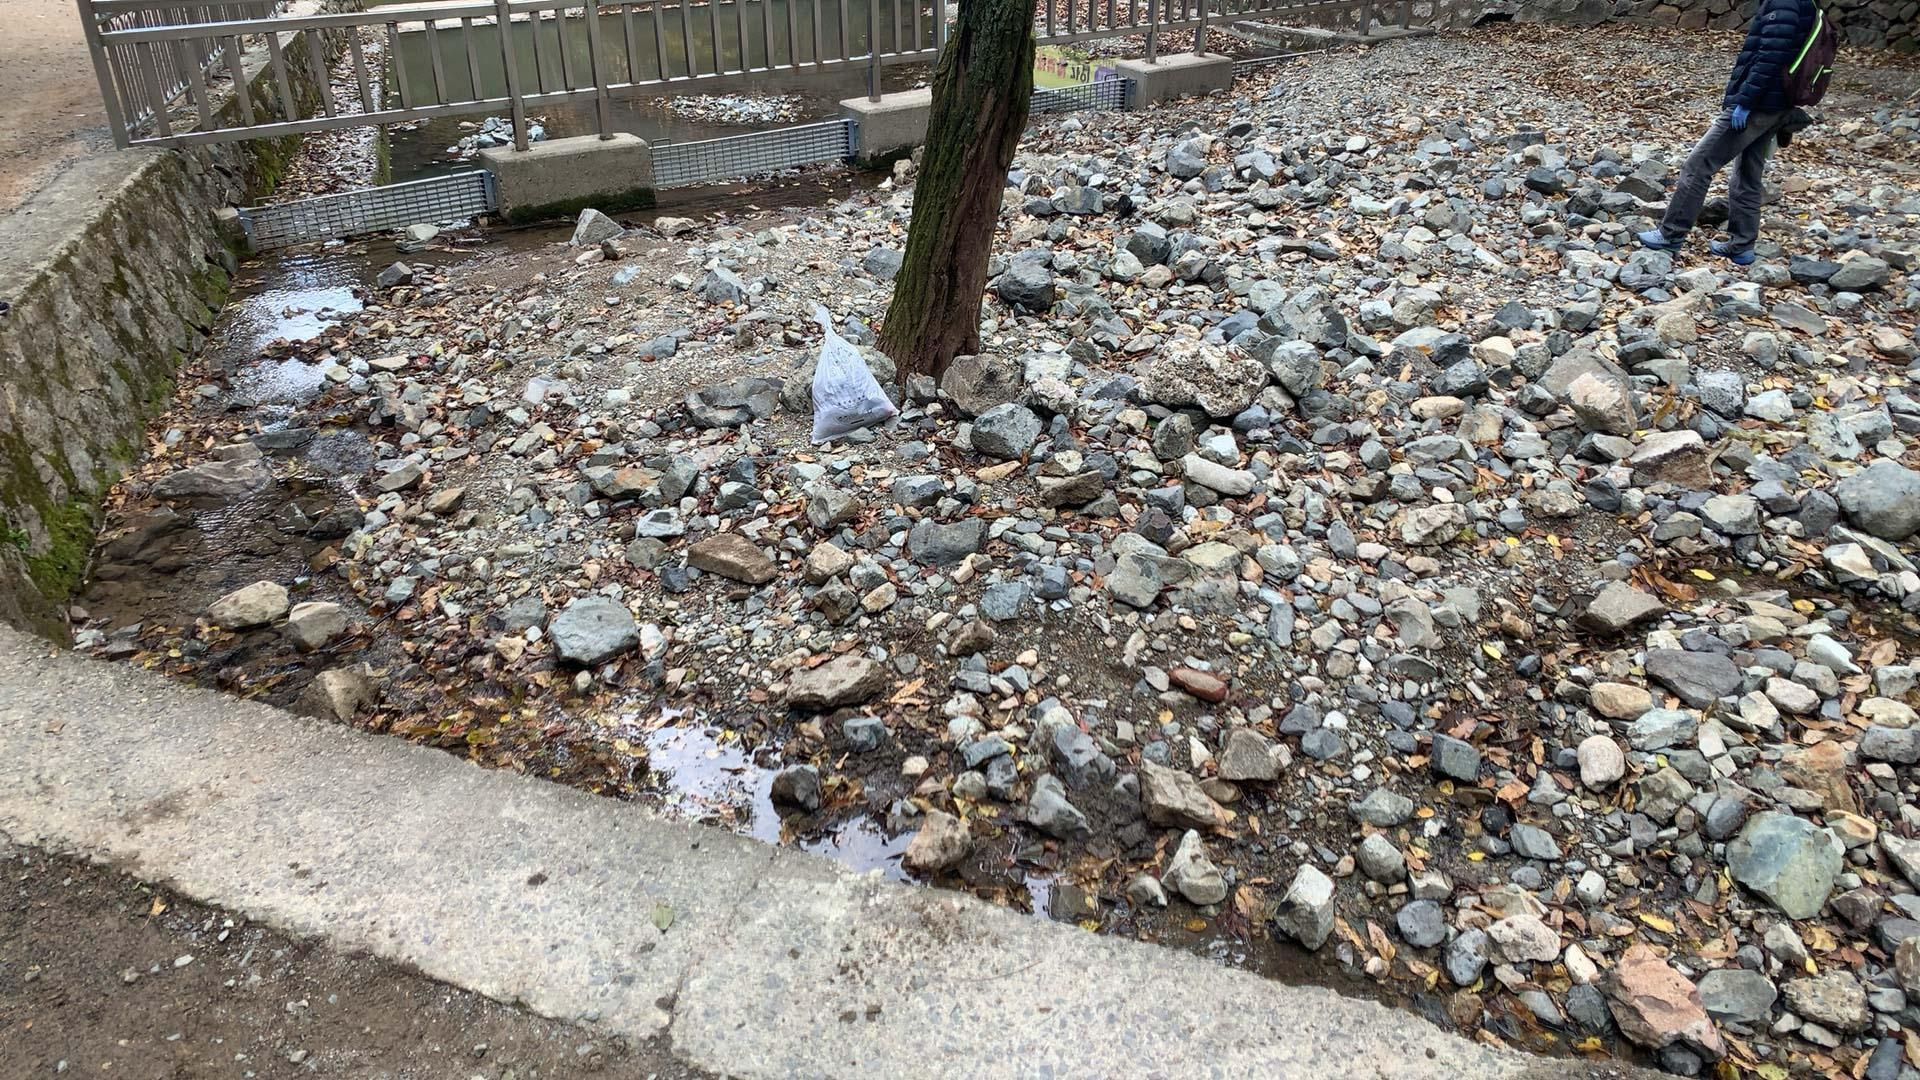white_bag: (796, 299, 905, 444)
